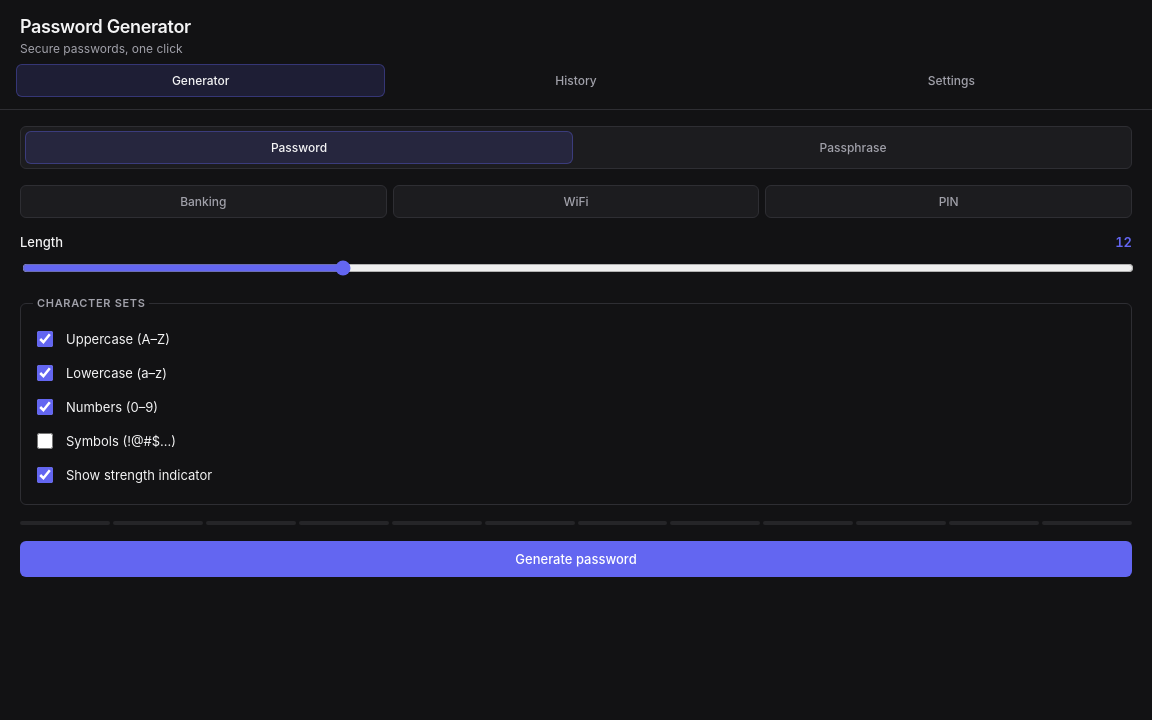
Test case: App integration › UI-NAV-02: switches to settings tab
This screenshot has width=1152, height=720.
Click the button "settings".
click(951, 80)  # box x1=767 y1=64 x2=1136 y2=97
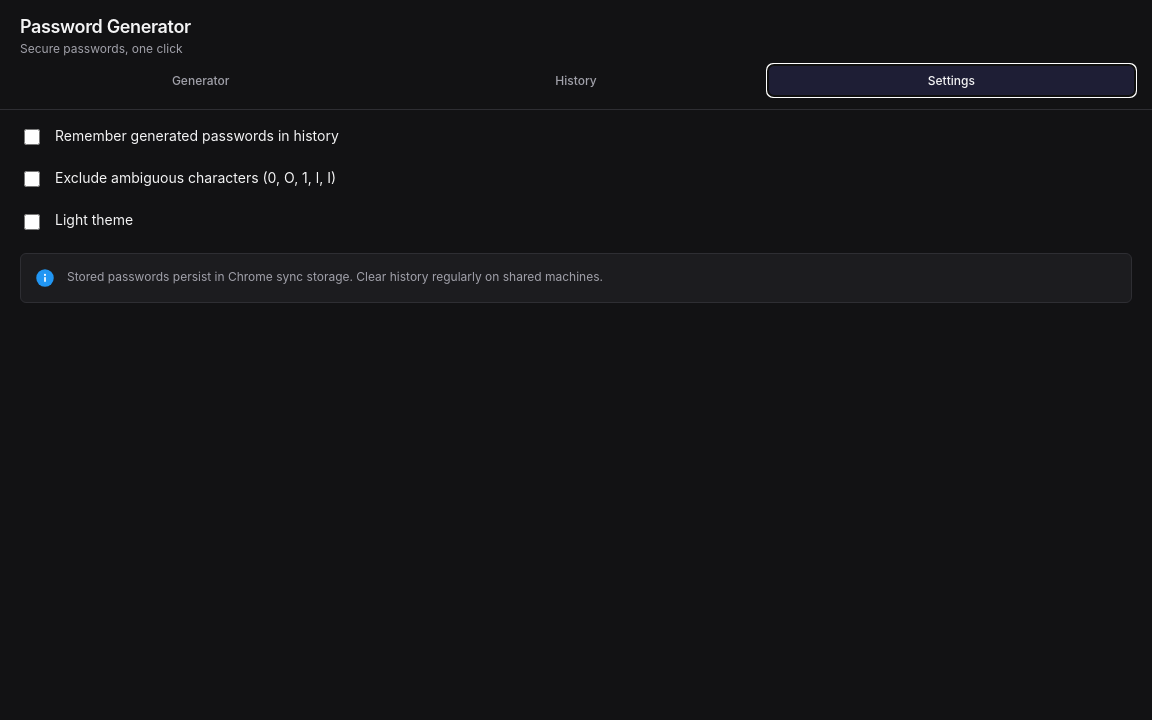
Now the checkbox labelled "Remember generated passwords in history" is shown, box x1=24 y1=129 x2=40 y2=145
